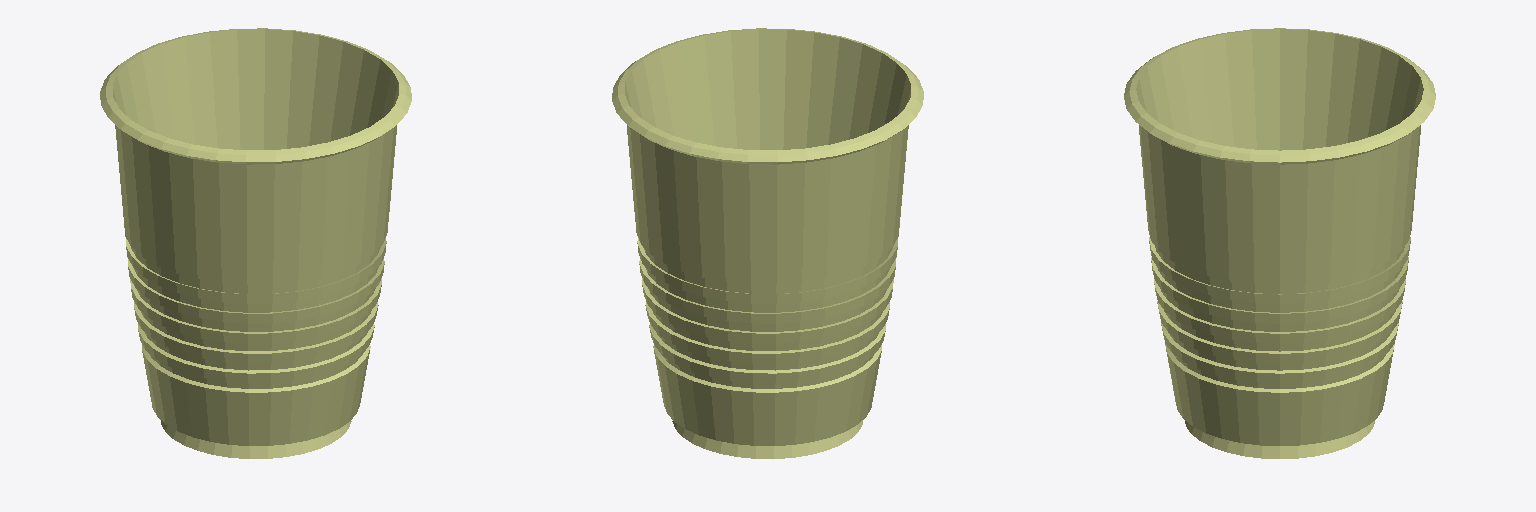
File: плстк.obj
The picture shows the model from 3 angles: view 1: azimuth 30°, elevation 25°; view 2: azimuth 150°, elevation 25°; view 3: azimuth 270°, elevation 25°; orthographic projection.
Visible parts, largest first — view 1: Cylinder.002; view 2: Cylinder.002; view 3: Cylinder.002.
Boxes of the visible parts, <box> form: Cylinder.002: <box>100,28,411,458</box>; Cylinder.002: <box>612,28,923,458</box>; Cylinder.002: <box>1124,28,1435,458</box>.
Bounding box in the file's own units: 0.4035 × 0.473 × 0.4035.